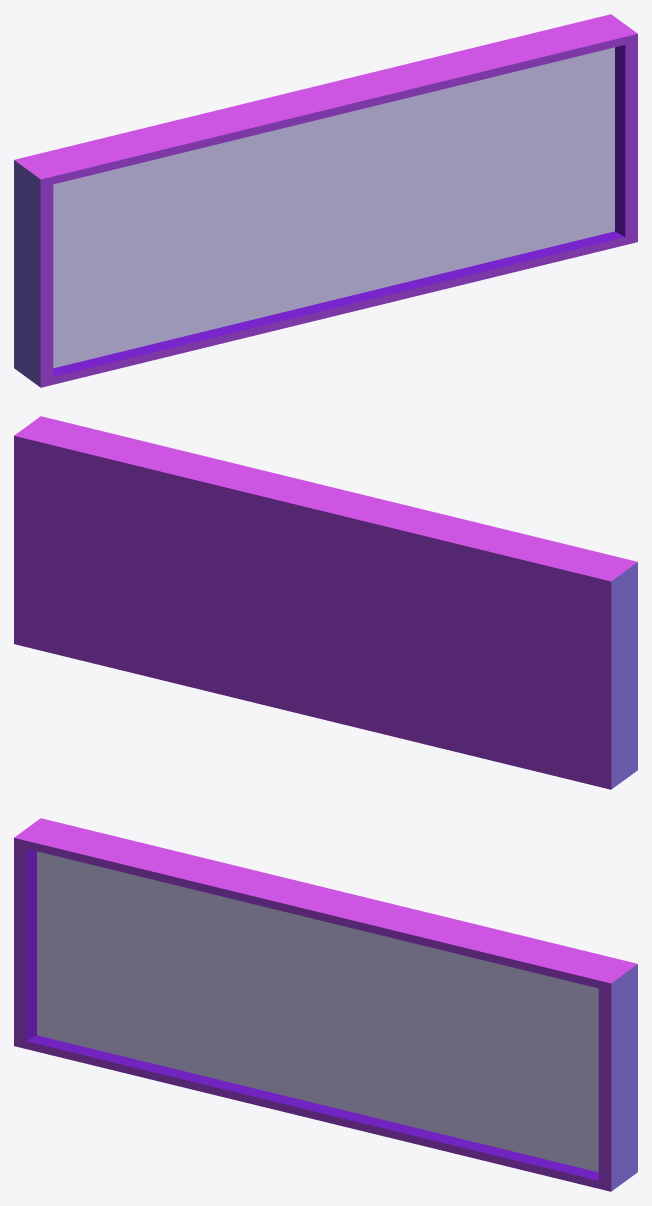
Rendered from 3d_billboard_9x3.fbx.
3 renders of one model, top to bottom at view 1: azimuth 30°, elevation 25°; view 2: azimuth 150°, elevation 25°; view 3: azimuth 330°, elevation 25°, orthographic.
Parts seen in each view (by area): view 1: GEO_Billboard_9x3; view 2: GEO_Billboard_9x3; view 3: GEO_Billboard_9x3.
Part boxes in pixels (x1,y1,x2,y2): GEO_Billboard_9x3: (14, 14, 637, 387); GEO_Billboard_9x3: (14, 416, 637, 789); GEO_Billboard_9x3: (14, 818, 637, 1191).
Bounding box in the file's own units: 9 × 0.7 × 3.
